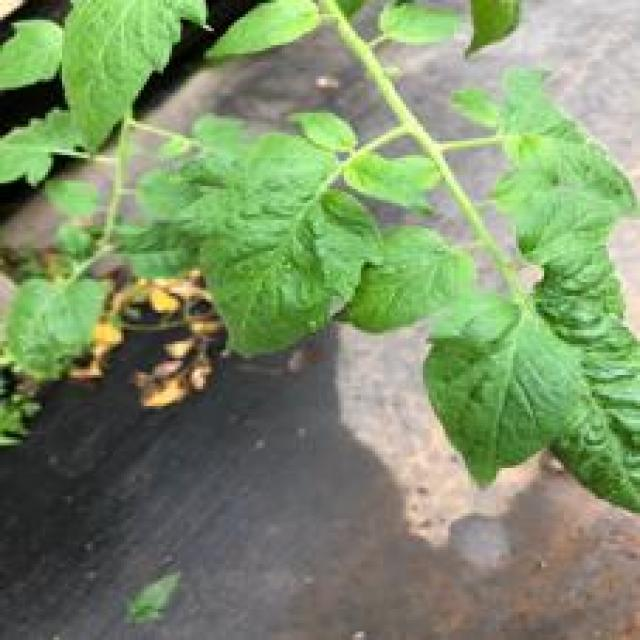Tomato healthy leaf: (141, 113, 431, 361), (496, 70, 640, 516), (420, 296, 581, 491), (65, 0, 180, 144), (348, 226, 478, 335)
